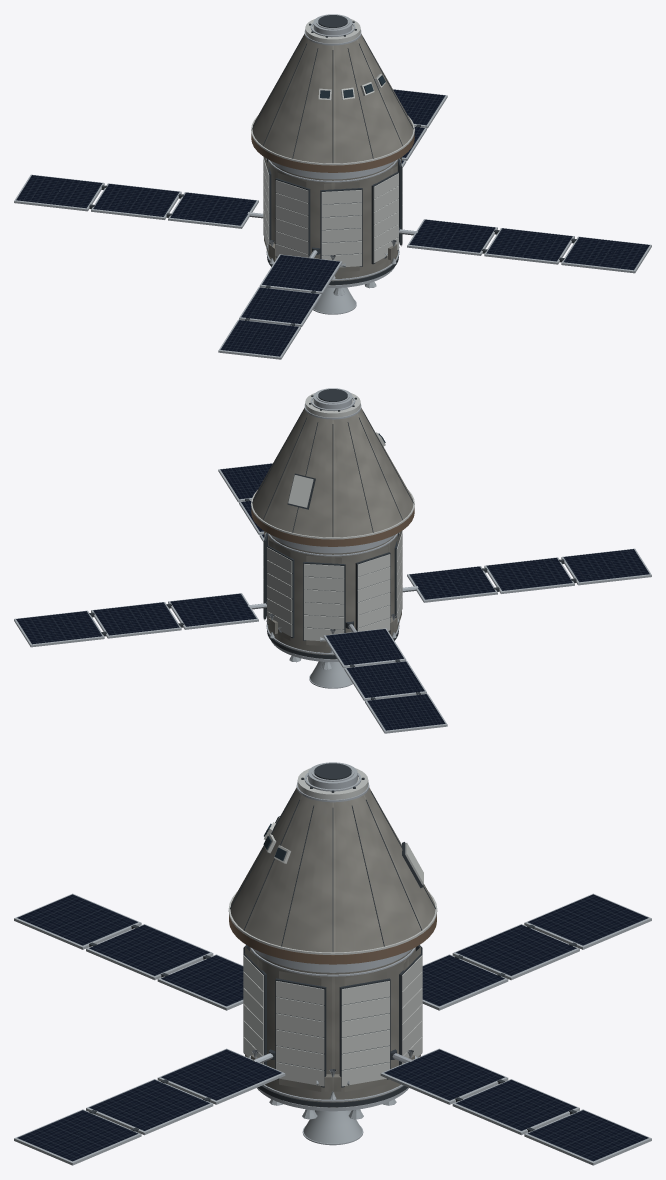
Rendered from orion.glb.
3 renders of one model, top to bottom at view 1: azimuth 30°, elevation 25°; view 2: azimuth 150°, elevation 25°; view 3: azimuth 270°, elevation 25°, orthographic. The views are drawn at different scales.
Parts seen in each view (by area): view 1: crew_module, service_module, wing_4, wing_2, wing_3, wing_1, engine; view 2: crew_module, service_module, wing_1, wing_3, wing_2, wing_4, engine; view 3: crew_module, service_module, wing_1, wing_4, wing_2, wing_3, engine, aft_structure.
Part boxes in pixels (bbox=[...]): crew_module: bbox=[251, 14, 414, 172]; service_module: bbox=[263, 157, 402, 284]; wing_4: bbox=[399, 219, 651, 273]; wing_2: bbox=[14, 174, 263, 228]; wing_3: bbox=[218, 247, 342, 359]; wing_1: bbox=[393, 89, 447, 167]; engine: bbox=[313, 287, 356, 314]; crew_module: bbox=[251, 388, 414, 546]; service_module: bbox=[263, 531, 402, 658]; wing_1: bbox=[14, 593, 266, 647]; wing_3: bbox=[402, 548, 651, 602]; wing_2: bbox=[323, 621, 447, 733]; wing_4: bbox=[218, 463, 272, 541]; engine: bbox=[309, 661, 352, 688]; crew_module: bbox=[228, 762, 437, 964]; service_module: bbox=[243, 945, 422, 1107]; wing_1: bbox=[380, 1048, 651, 1165]; wing_4: bbox=[14, 1048, 285, 1165]; wing_2: bbox=[422, 893, 651, 1010]; wing_3: bbox=[14, 893, 243, 1010]; engine: bbox=[302, 1110, 363, 1145]; aft_structure: bbox=[257, 1087, 408, 1119].
Size of the model in its own units: 15.38 by 9.62 by 15.38.
9 materials, 2 textured.
